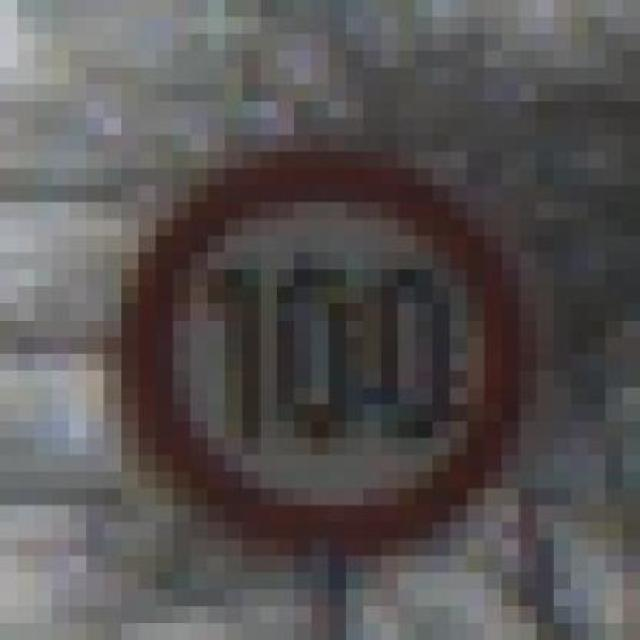forb_speed_over_100: (137, 152, 528, 543)
